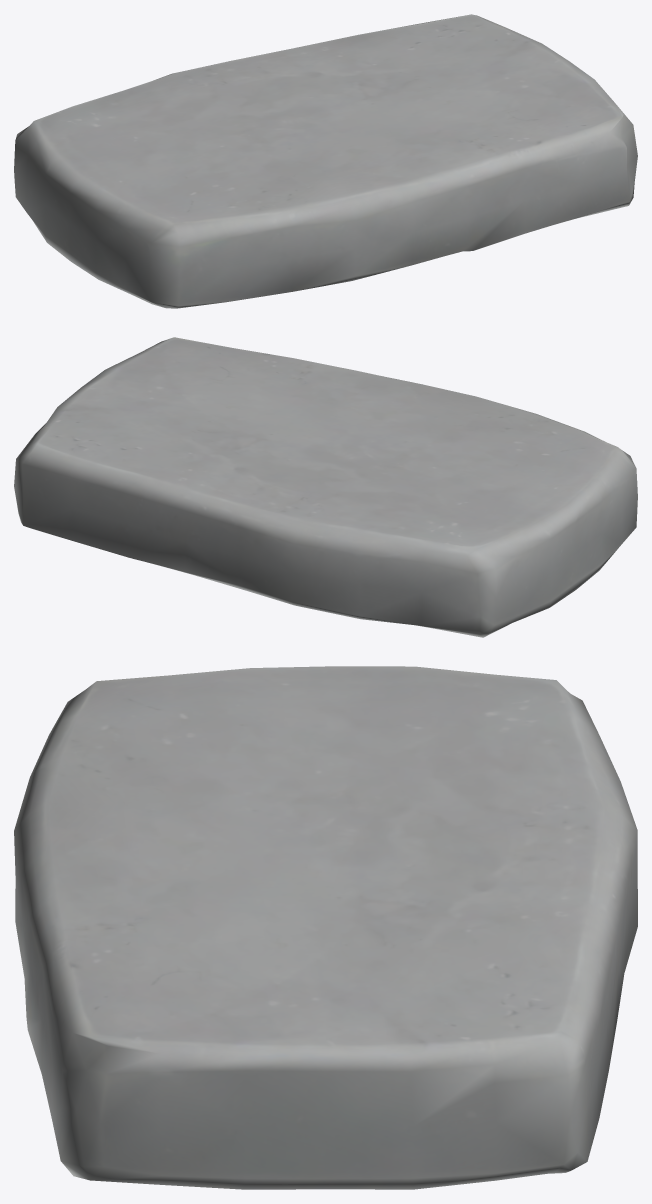
The model's file is Meshy_AI_model_20261128_texture.fbx.
The picture shows the model from 3 angles, top to bottom: view 1: azimuth 30°, elevation 25°; view 2: azimuth 150°, elevation 25°; view 3: azimuth 270°, elevation 25°; orthographic projection. The views are drawn at different scales.
Parts seen in each view (by area): view 1: geometry_0; view 2: geometry_0; view 3: geometry_0.
Part boxes in pixels (left/top/right/bottom): geometry_0: left=14, top=14, right=637, bottom=308; geometry_0: left=14, top=337, right=637, bottom=637; geometry_0: left=14, top=666, right=637, bottom=1189.
Bounding box in the file's own units: 100 × 16.62 × 66.38.
Materials: 1 (1 with a texture image).
